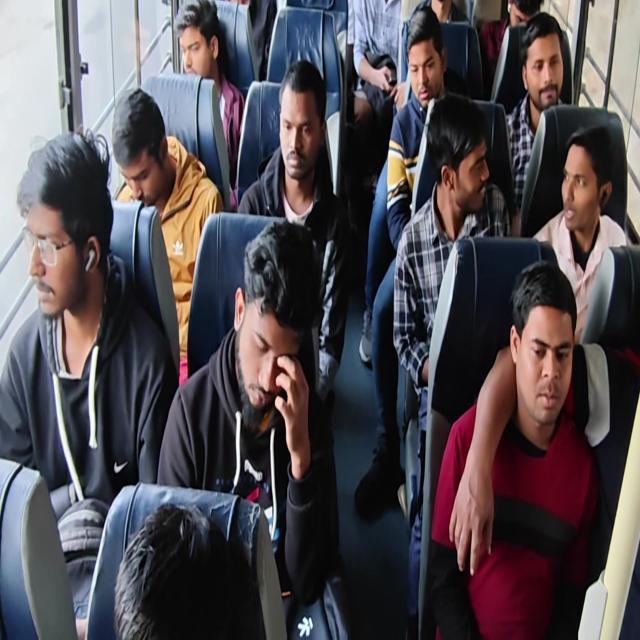person: (1, 1, 637, 638), (0, 128, 179, 638), (156, 219, 344, 634), (425, 260, 601, 638), (392, 93, 511, 635), (354, 5, 465, 515), (237, 58, 351, 406), (111, 87, 224, 386), (532, 124, 628, 344), (113, 501, 266, 638), (386, 6, 460, 251), (172, 0, 245, 201), (505, 11, 565, 233), (393, 0, 470, 118), (348, 0, 402, 127), (478, 0, 543, 98), (406, 0, 470, 25)
